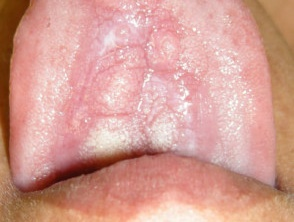SJS-TEN: (54, 0, 211, 200)
